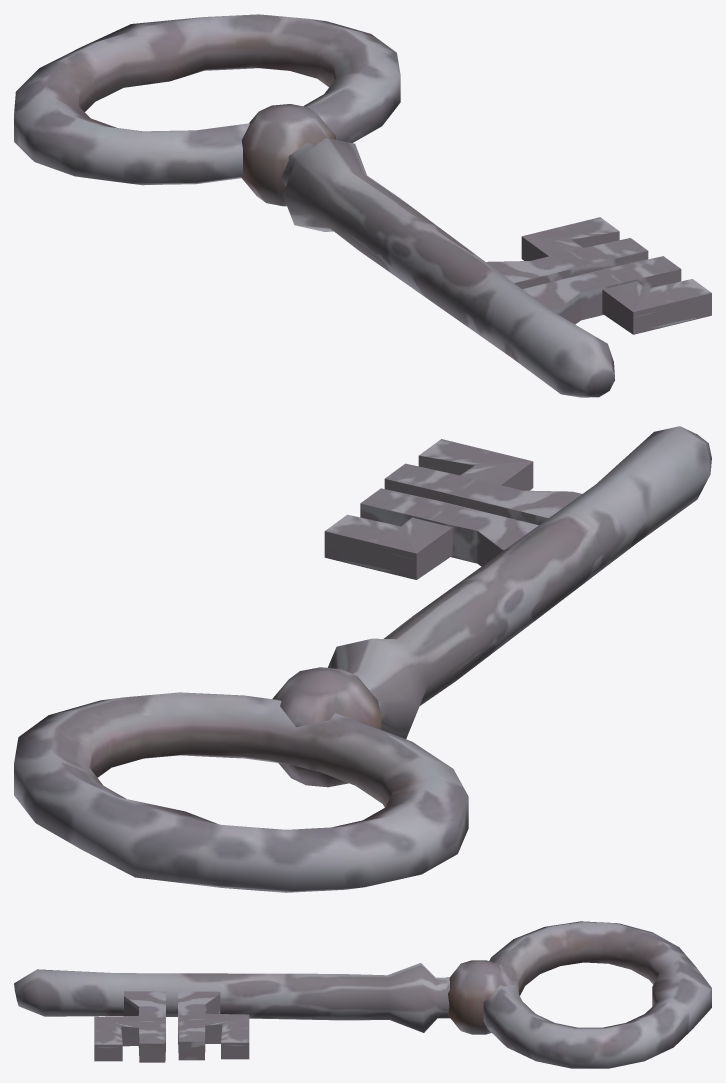
The model's file is Key_Metal.glb.
3 views of the same model, one above another, from view 1: azimuth 30°, elevation 25°; view 2: azimuth 150°, elevation 25°; view 3: azimuth 270°, elevation 25° (orthographic). The views are drawn at different scales.
Visible parts, largest first — view 1: Key_Metal; view 2: Key_Metal; view 3: Key_Metal.
Part boxes in pixels (<box>): Key_Metal: <box>14,14,711,397</box>; Key_Metal: <box>14,426,711,892</box>; Key_Metal: <box>14,921,711,1068</box>.
Bounding box in the file's own units: 0.048 × 0.0124 × 0.111.
Materials: 1 (1 with a texture image).
